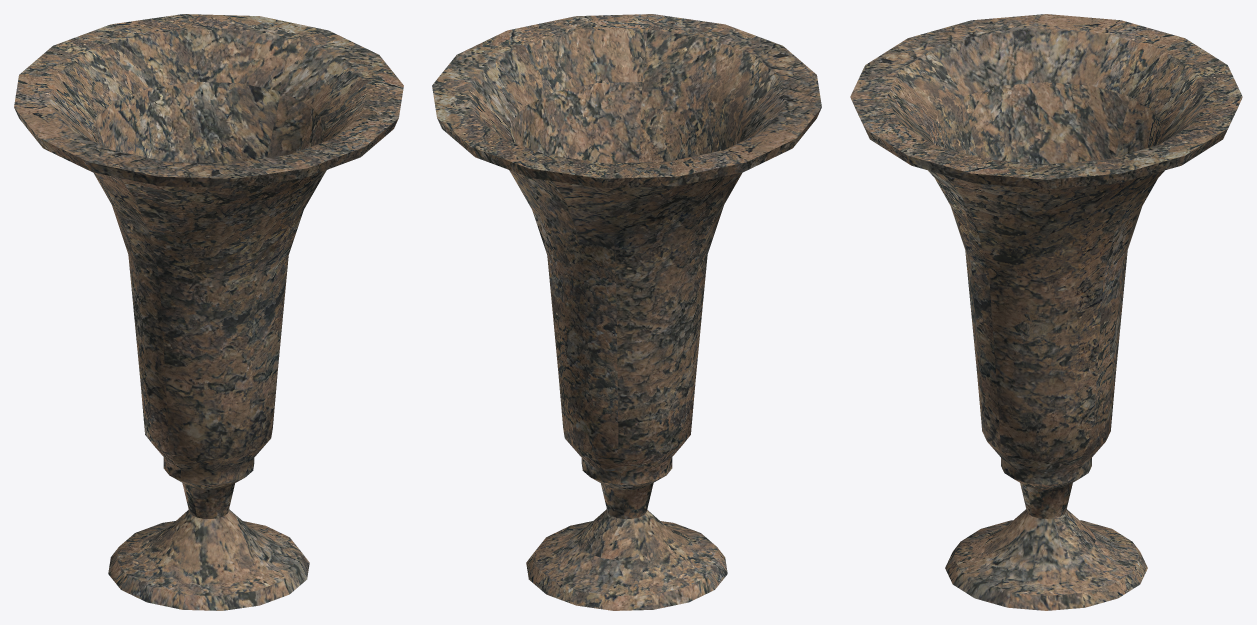
File: Vessel01.fbx
The picture shows the model from 3 angles, left to right: view 1: azimuth 30°, elevation 25°; view 2: azimuth 150°, elevation 25°; view 3: azimuth 270°, elevation 25°; orthographic projection.
Parts seen in each view (by area): view 1: Vessel01; view 2: Vessel01; view 3: Vessel01.
Part boxes in pixels (left/top/right/bottom): Vessel01: left=14, top=14, right=403, bottom=610; Vessel01: left=432, top=14, right=821, bottom=610; Vessel01: left=850, top=14, right=1242, bottom=610.
Size of the model in its own units: 25.47 by 33.72 by 25.47.
